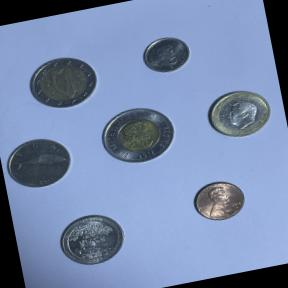coin: (92, 98, 183, 173), (21, 48, 106, 118), (49, 205, 134, 274), (0, 129, 78, 196), (202, 82, 276, 145), (187, 174, 250, 228), (135, 29, 196, 80)
